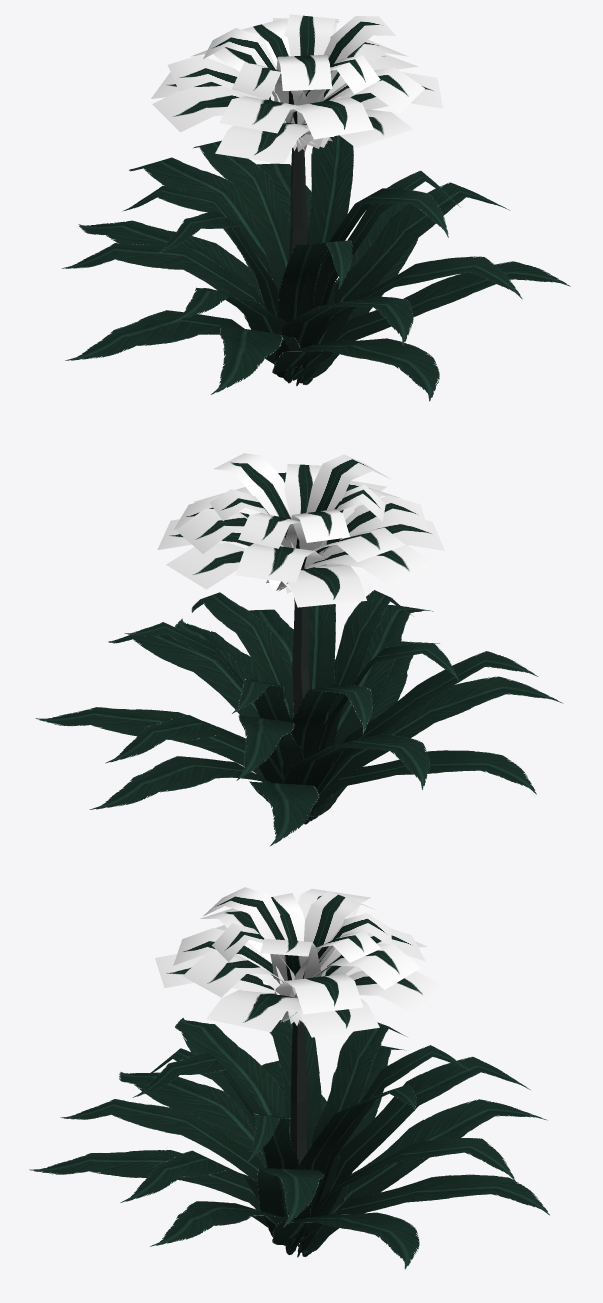
The model's file is SmallLight.fbx.
3 renders of one model, top to bottom at view 1: azimuth 30°, elevation 25°; view 2: azimuth 150°, elevation 25°; view 3: azimuth 270°, elevation 25°, orthographic. The views are drawn at different scales.
Parts seen in each view (by area): view 1: Plane, Plane.001, Cylinder; view 2: Plane, Plane.001, Cylinder; view 3: Plane, Plane.001, Cylinder.
Part boxes in pixels (left/top/right/bottom): Plane: left=61, top=135, right=570, bottom=401; Plane.001: left=151, top=14, right=442, bottom=163; Cylinder: left=289, top=146, right=307, bottom=368; Plane: left=35, top=590, right=563, bottom=846; Plane.001: left=157, top=453, right=444, bottom=607; Cylinder: left=292, top=600, right=309, bottom=714; Plane: left=29, top=1017, right=549, bottom=1269; Plane.001: left=155, top=887, right=442, bottom=1037; Cylinder: left=291, top=1021, right=306, bottom=1239.
Bounding box in the file's own units: 51.89 × 52.16 × 34.5.
Materials: 3 (2 with a texture image).
